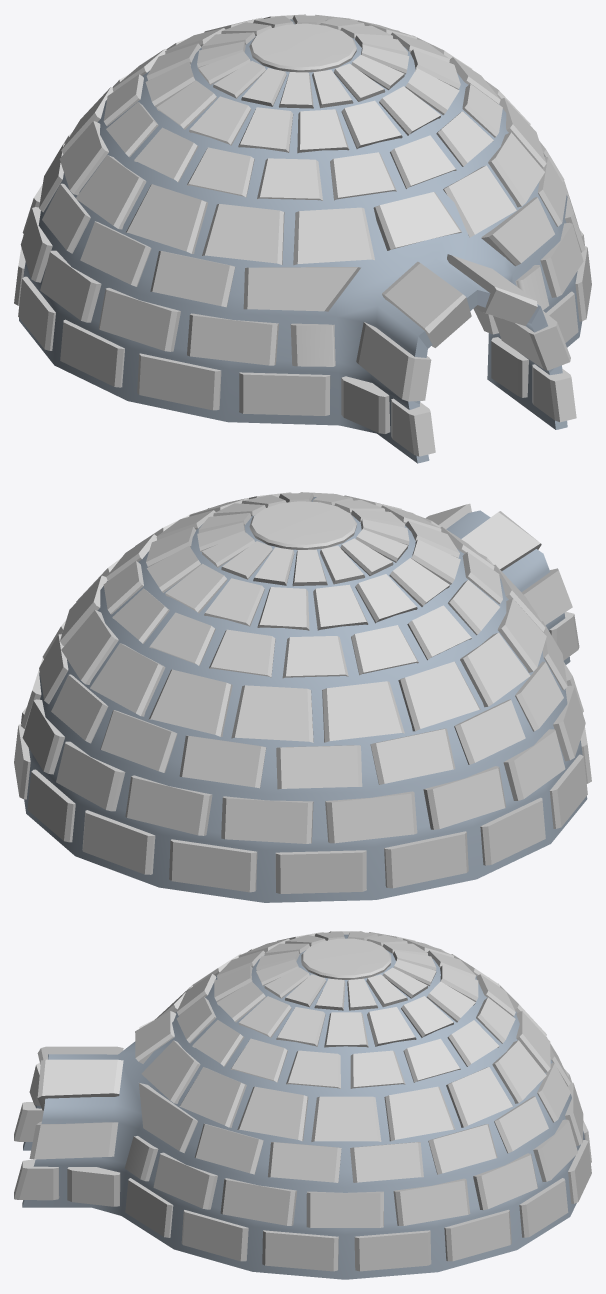
File: HealthyIgloo.fbx
3 views of the same model, one above another, from view 1: azimuth 30°, elevation 25°; view 2: azimuth 150°, elevation 25°; view 3: azimuth 270°, elevation 25° (orthographic). The views are drawn at different scales.
Visible parts, largest first — view 1: healthyBricks, healthyCenter; view 2: healthyBricks, healthyCenter; view 3: healthyBricks, healthyCenter.
Boxes of the visible parts, x1,y1,x2,y2 form: healthyBricks: (14, 14, 591, 456); healthyCenter: (19, 19, 582, 463); healthyBricks: (14, 492, 591, 893); healthyCenter: (24, 497, 587, 902); healthyBricks: (14, 931, 591, 1271); healthyCenter: (22, 934, 584, 1279).
Bounding box in the file's own units: 619 × 307 × 729.
